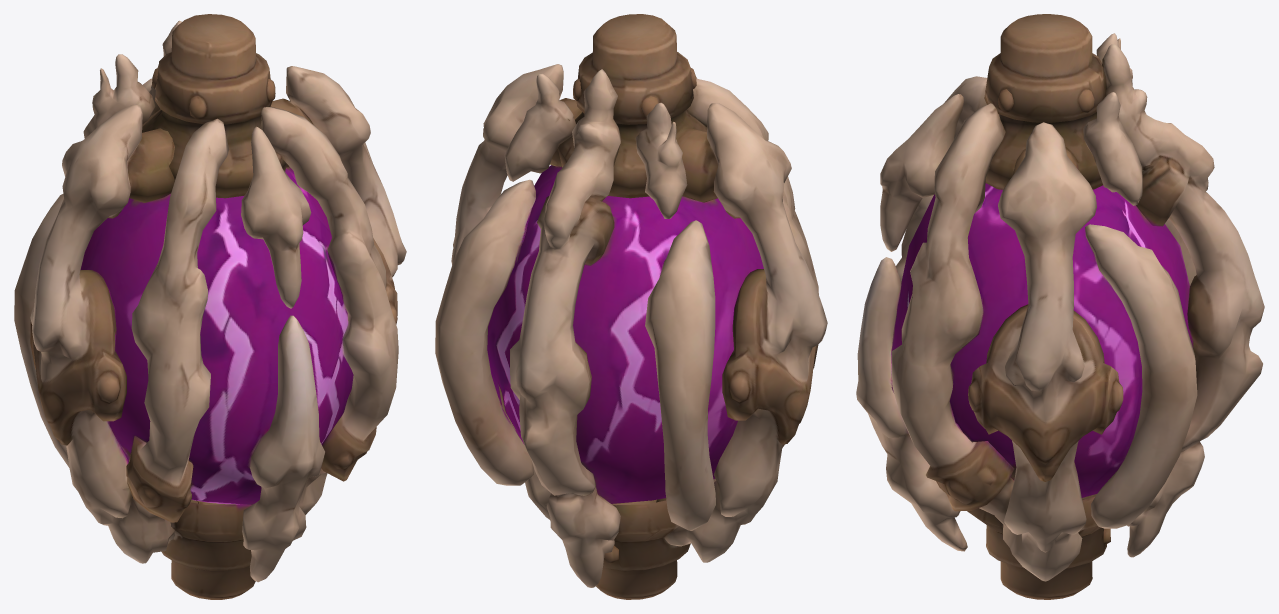
The model's file is SM_EnemyPart_LianguCore.glb.
3 views of the same model, side by side, from view 1: azimuth 30°, elevation 25°; view 2: azimuth 150°, elevation 25°; view 3: azimuth 270°, elevation 25° (orthographic).
Parts seen in each view (by area): view 1: SM_EnemyPart_LianguCore_LOD0; view 2: SM_EnemyPart_LianguCore_LOD0; view 3: SM_EnemyPart_LianguCore_LOD0.
Boxes of the visible parts, x1,y1,x2,y2 form: SM_EnemyPart_LianguCore_LOD0: [14, 14, 406, 599]; SM_EnemyPart_LianguCore_LOD0: [435, 14, 827, 599]; SM_EnemyPart_LianguCore_LOD0: [856, 14, 1264, 599].
Size of the model in its own units: 0.6239 by 0.9 by 0.5975.
1 material, 1 textured.
